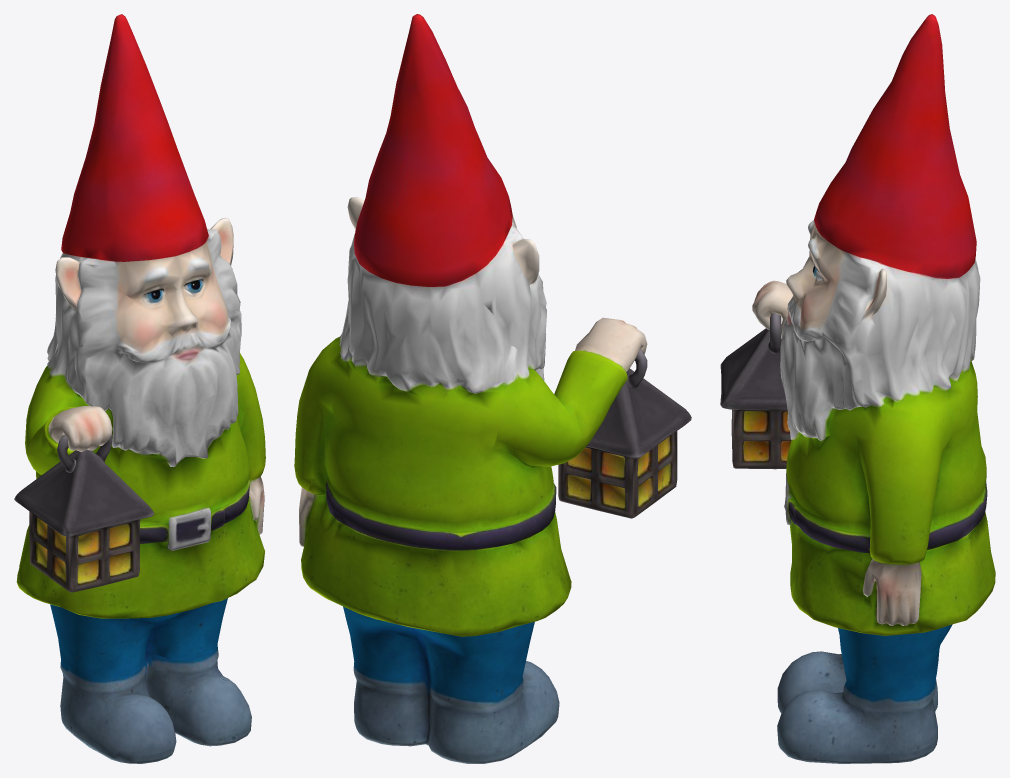
3 renders of one model, left to right at view 1: azimuth 30°, elevation 25°; view 2: azimuth 150°, elevation 25°; view 3: azimuth 270°, elevation 25°, orthographic. The views are drawn at different scales.
Parts seen in each view (by area): view 1: RENDER_00; view 2: RENDER_00; view 3: RENDER_00.
Part boxes in pixels (x1,y1,x2,y2): RENDER_00: [14, 14, 265, 763]; RENDER_00: [294, 14, 691, 763]; RENDER_00: [720, 14, 995, 763].
Size of the model in its own units: 0.4306 by 0.9995 by 0.3502.
1 material, 1 textured.
